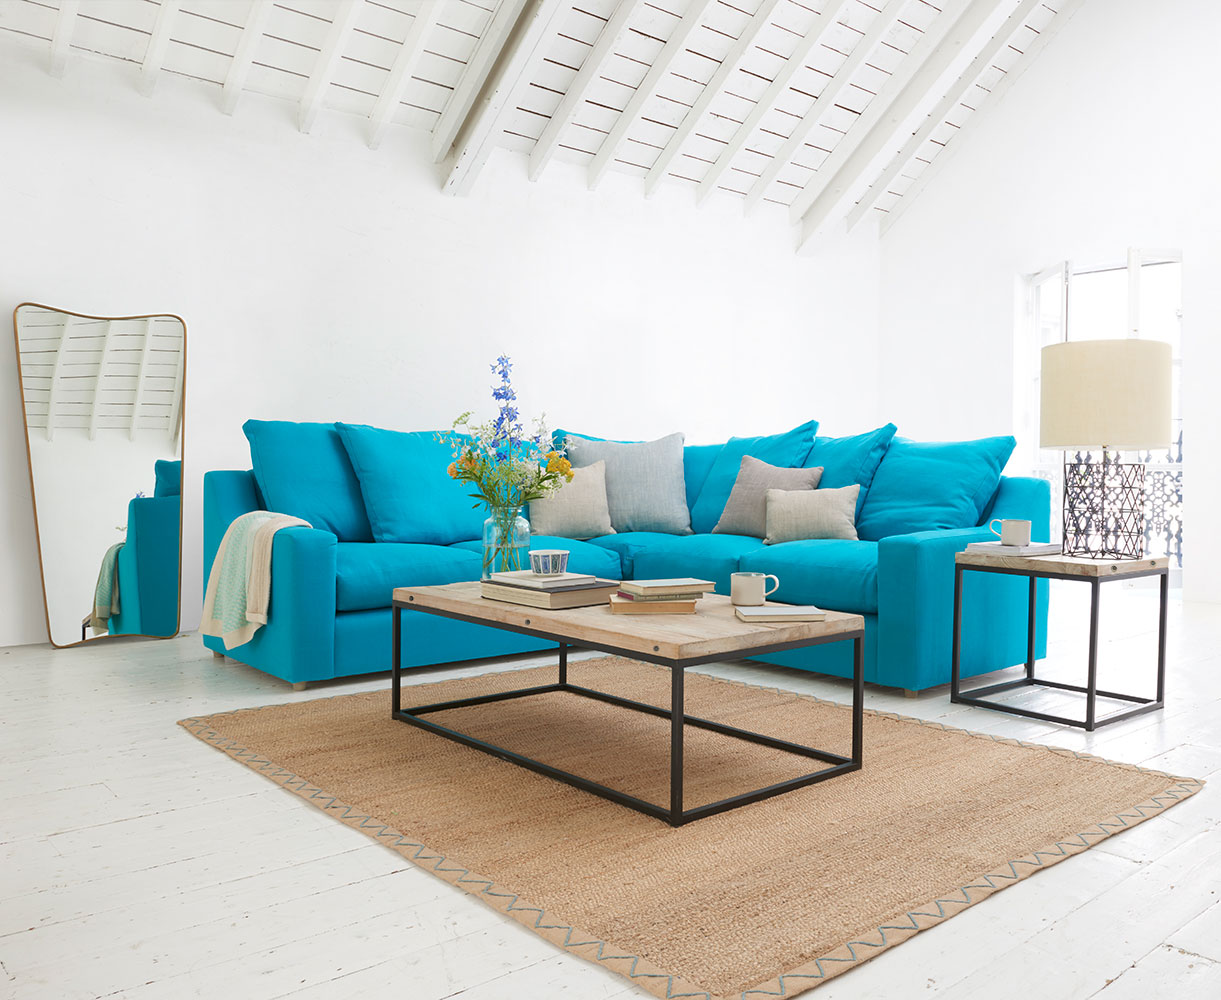chairs: (207, 414, 1053, 709)
